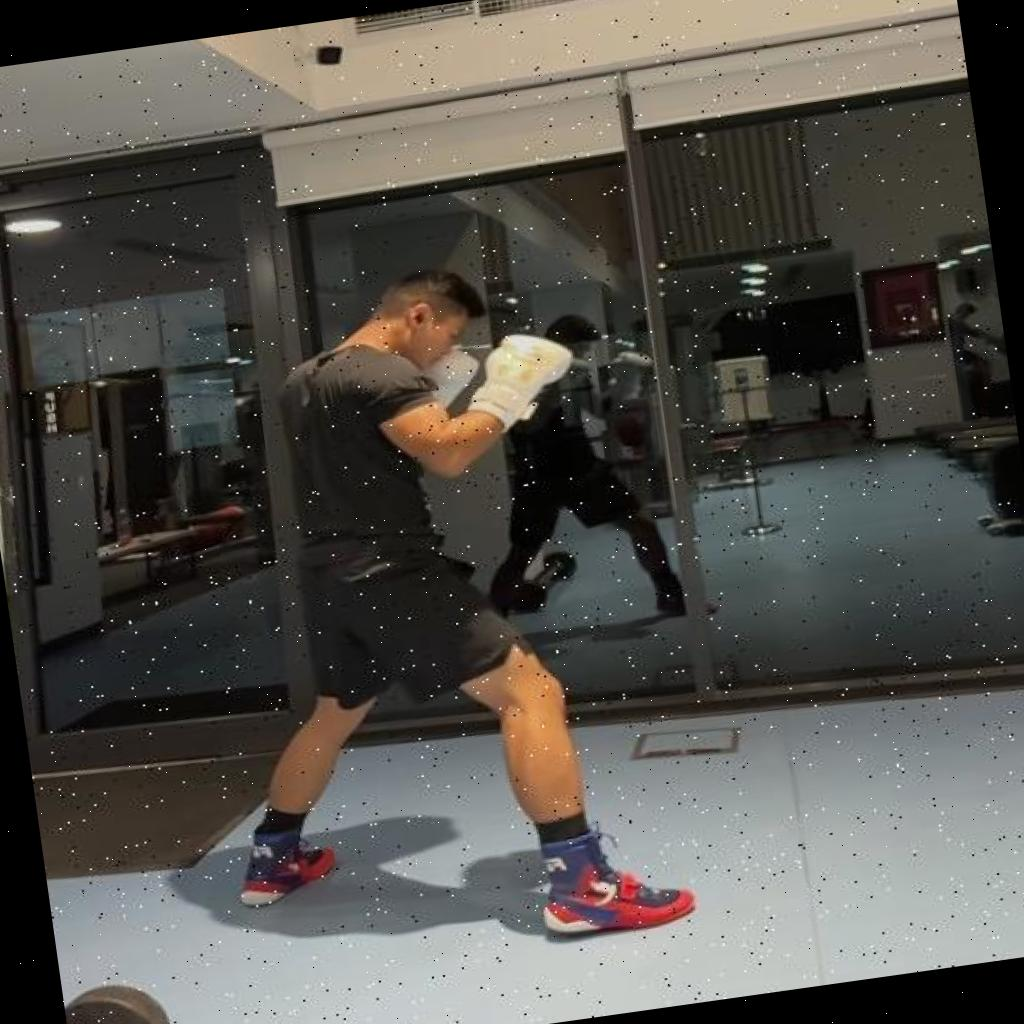no punch: (155, 234, 704, 988)
